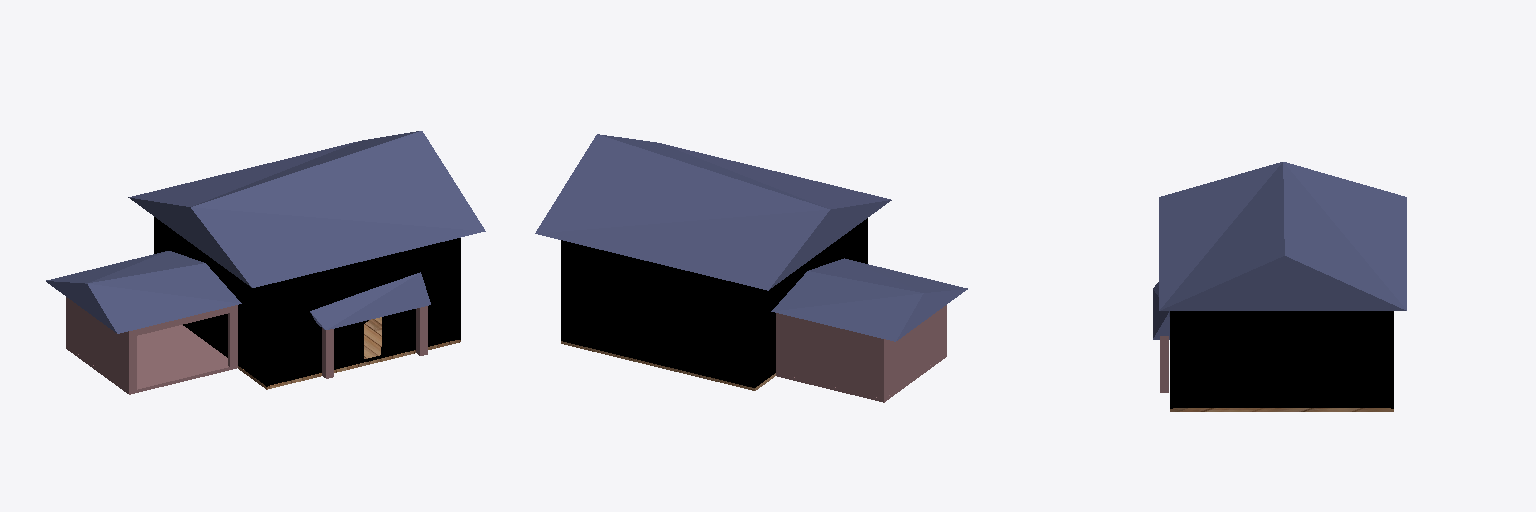
3 views of the same model, side by side, from view 1: azimuth 30°, elevation 25°; view 2: azimuth 150°, elevation 25°; view 3: azimuth 270°, elevation 25° (orthographic).
Parts seen in each view (by area): view 1: polySurface4 polySurface2 pCube21; view 2: polySurface4 polySurface2 pCube21; view 3: polySurface4 polySurface2 pCube21.
Boxes of the visible parts, x1,y1,x2,y2 form: polySurface4 polySurface2 pCube21: [46, 131, 485, 394]; polySurface4 polySurface2 pCube21: [535, 134, 967, 402]; polySurface4 polySurface2 pCube21: [1153, 162, 1406, 411].
Bounding box in the file's own units: 54.64 × 25.44 × 35.57.
Materials: 4 (3 with a texture image).